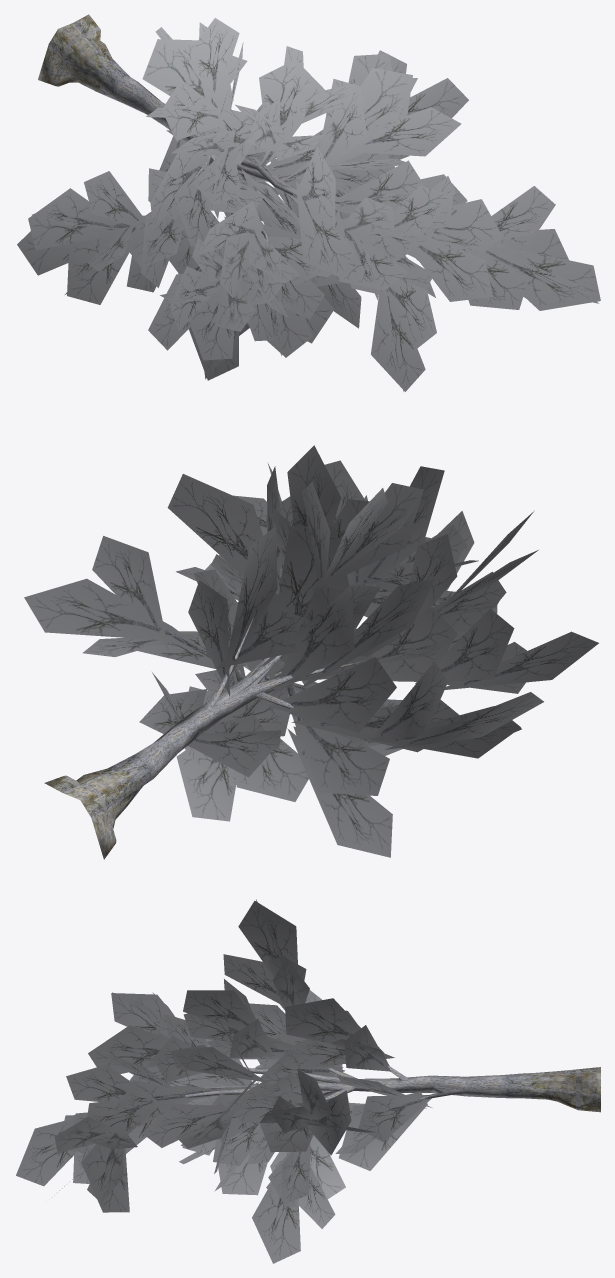
File: tree_snow_river_birch_xl_c.glb
The picture shows the model from 3 angles, top to bottom: view 1: azimuth 30°, elevation 25°; view 2: azimuth 150°, elevation 25°; view 3: azimuth 270°, elevation 25°; orthographic projection. The views are drawn at different scales.
Bounding box in the file's own units: 328 × 259 × 458.
2 materials, 2 textured.
